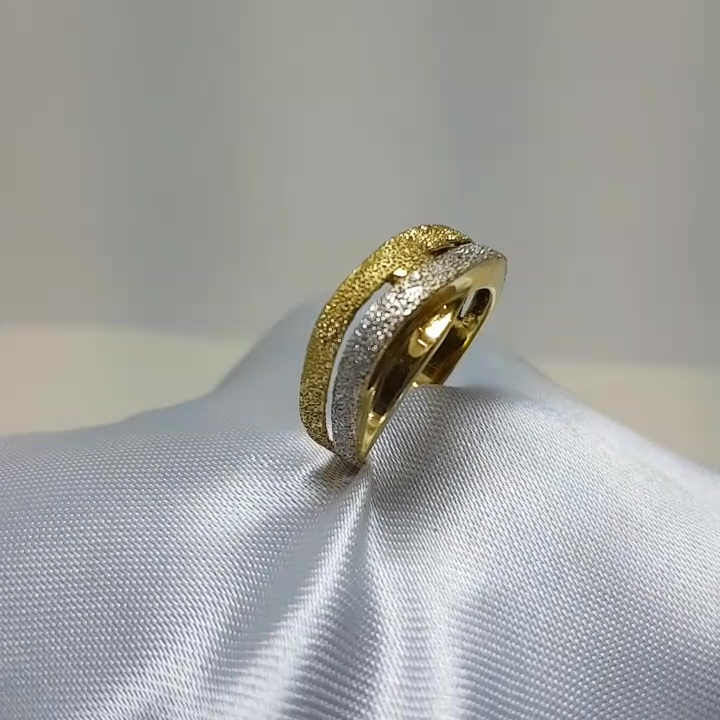Ring 5: (274, 209, 521, 488)
